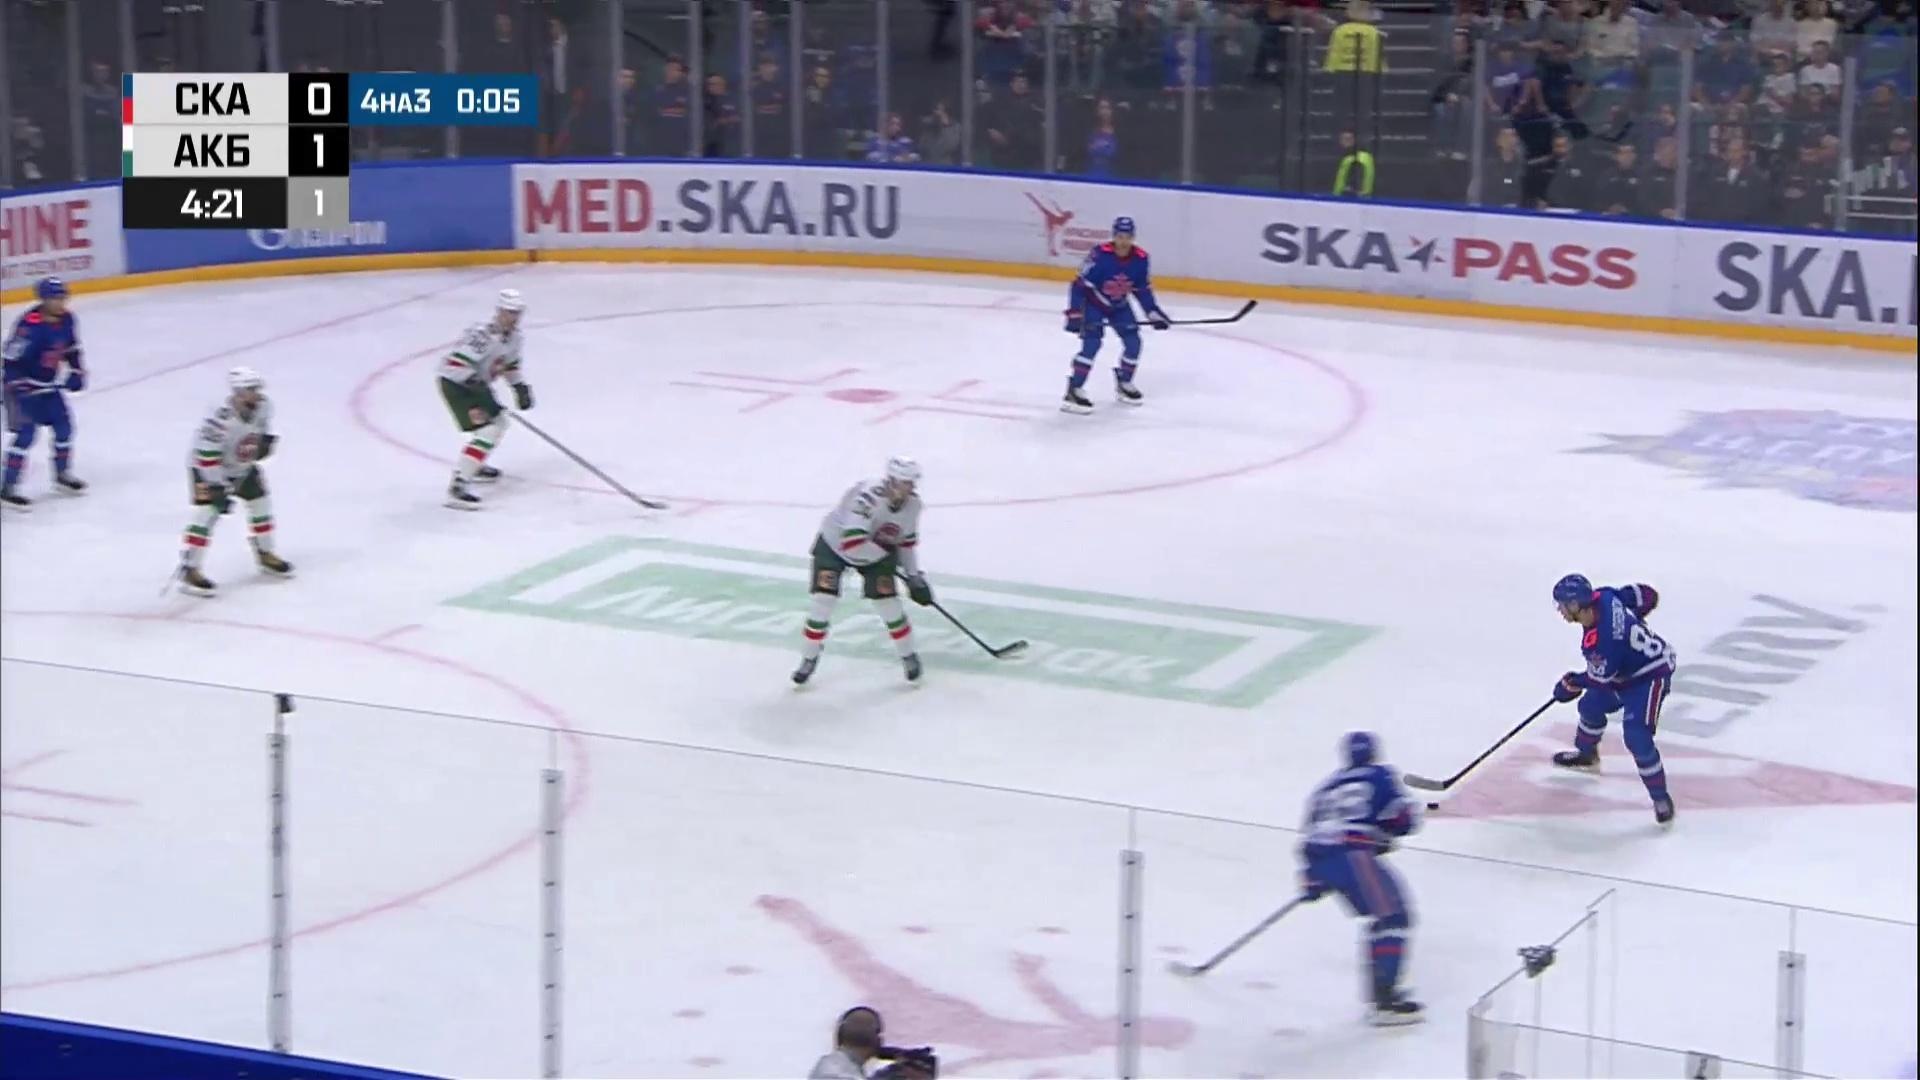ball: (1426, 802, 1441, 810)
